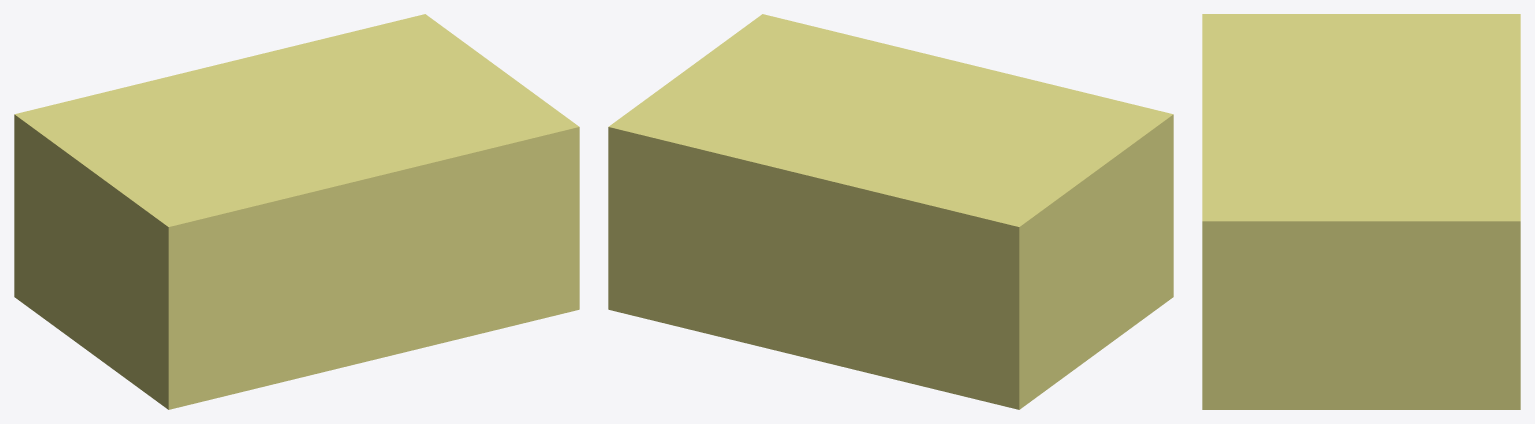
Rendered from Habitacion.fbx.
3 views of the same model, side by side, from view 1: azimuth 30°, elevation 25°; view 2: azimuth 150°, elevation 25°; view 3: azimuth 270°, elevation 25° (orthographic). The views are drawn at different scales.
Visible parts, largest first — view 1: Cube.007, Cube.004, Cube.005, Cube, Cube.006; view 2: Cube.007, Cube.006, Cube.005, Cube, Cube.004; view 3: Cube.007, Cube.003, Cube, Cube.004, Cube.006.
Boxes of the visible parts, x1,y1,x2,y2 form: Cube.007: (14,14,579,237); Cube.004: (165,137,579,398); Cube.005: (17,127,165,396); Cube: (14,286,579,409); Cube.006: (14,125,17,287); Cube.007: (608,14,1173,237); Cube.006: (608,137,1022,398); Cube.005: (1022,127,1170,396); Cube: (608,286,1173,409); Cube.004: (1170,125,1173,287); Cube.007: (1202,14,1520,232); Cube.003: (1208,232,1514,398); Cube: (1202,399,1520,409); Cube.004: (1202,232,1208,398); Cube.006: (1514,232,1520,398).
Size of the model in its own units: 800 by 340 by 520.
